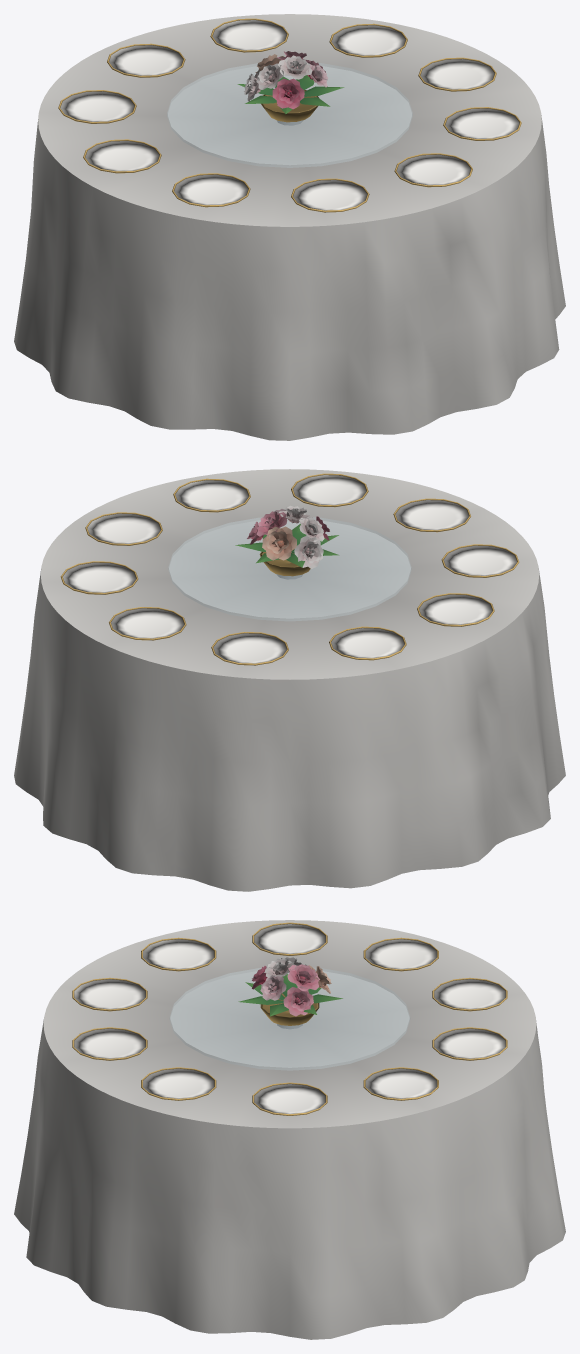
Rendered from ban-tron.glb.
The picture shows the model from 3 angles, top to bottom: view 1: azimuth 30°, elevation 25°; view 2: azimuth 150°, elevation 25°; view 3: azimuth 270°, elevation 25°; orthographic projection. The views are drawn at different scales.
Parts seen in each view (by area): view 1: ban-tron; view 2: ban-tron; view 3: ban-tron.
Boxes of the visible parts, x1=… form: ban-tron: x1=14, y1=14, x2=565, y2=440; ban-tron: x1=14, y1=469, x2=565, y2=891; ban-tron: x1=14, y1=920, x2=565, y2=1339.
Size of the model in its own units: 1.84 by 0.9636 by 1.84.
